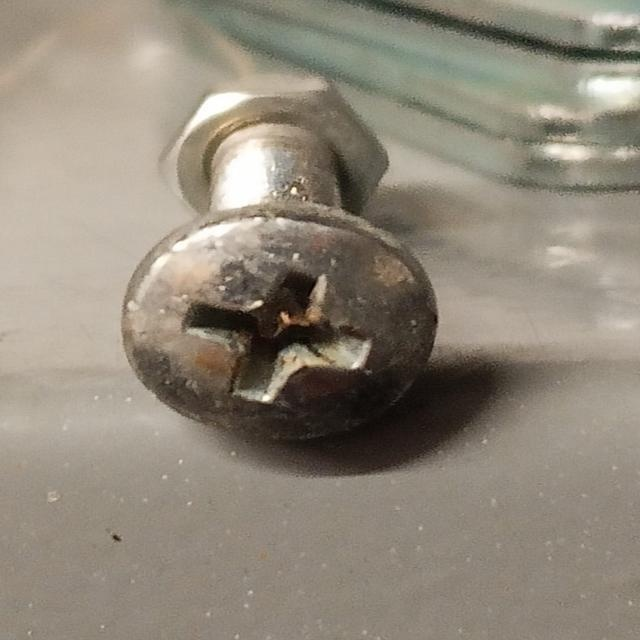phillips: (120, 212, 439, 442)
